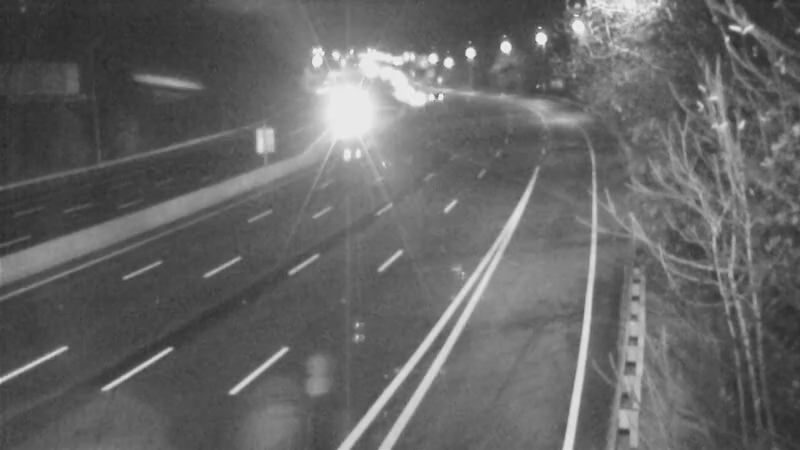vehicle: (378, 63, 428, 113), (413, 73, 463, 123), (395, 76, 445, 126)
